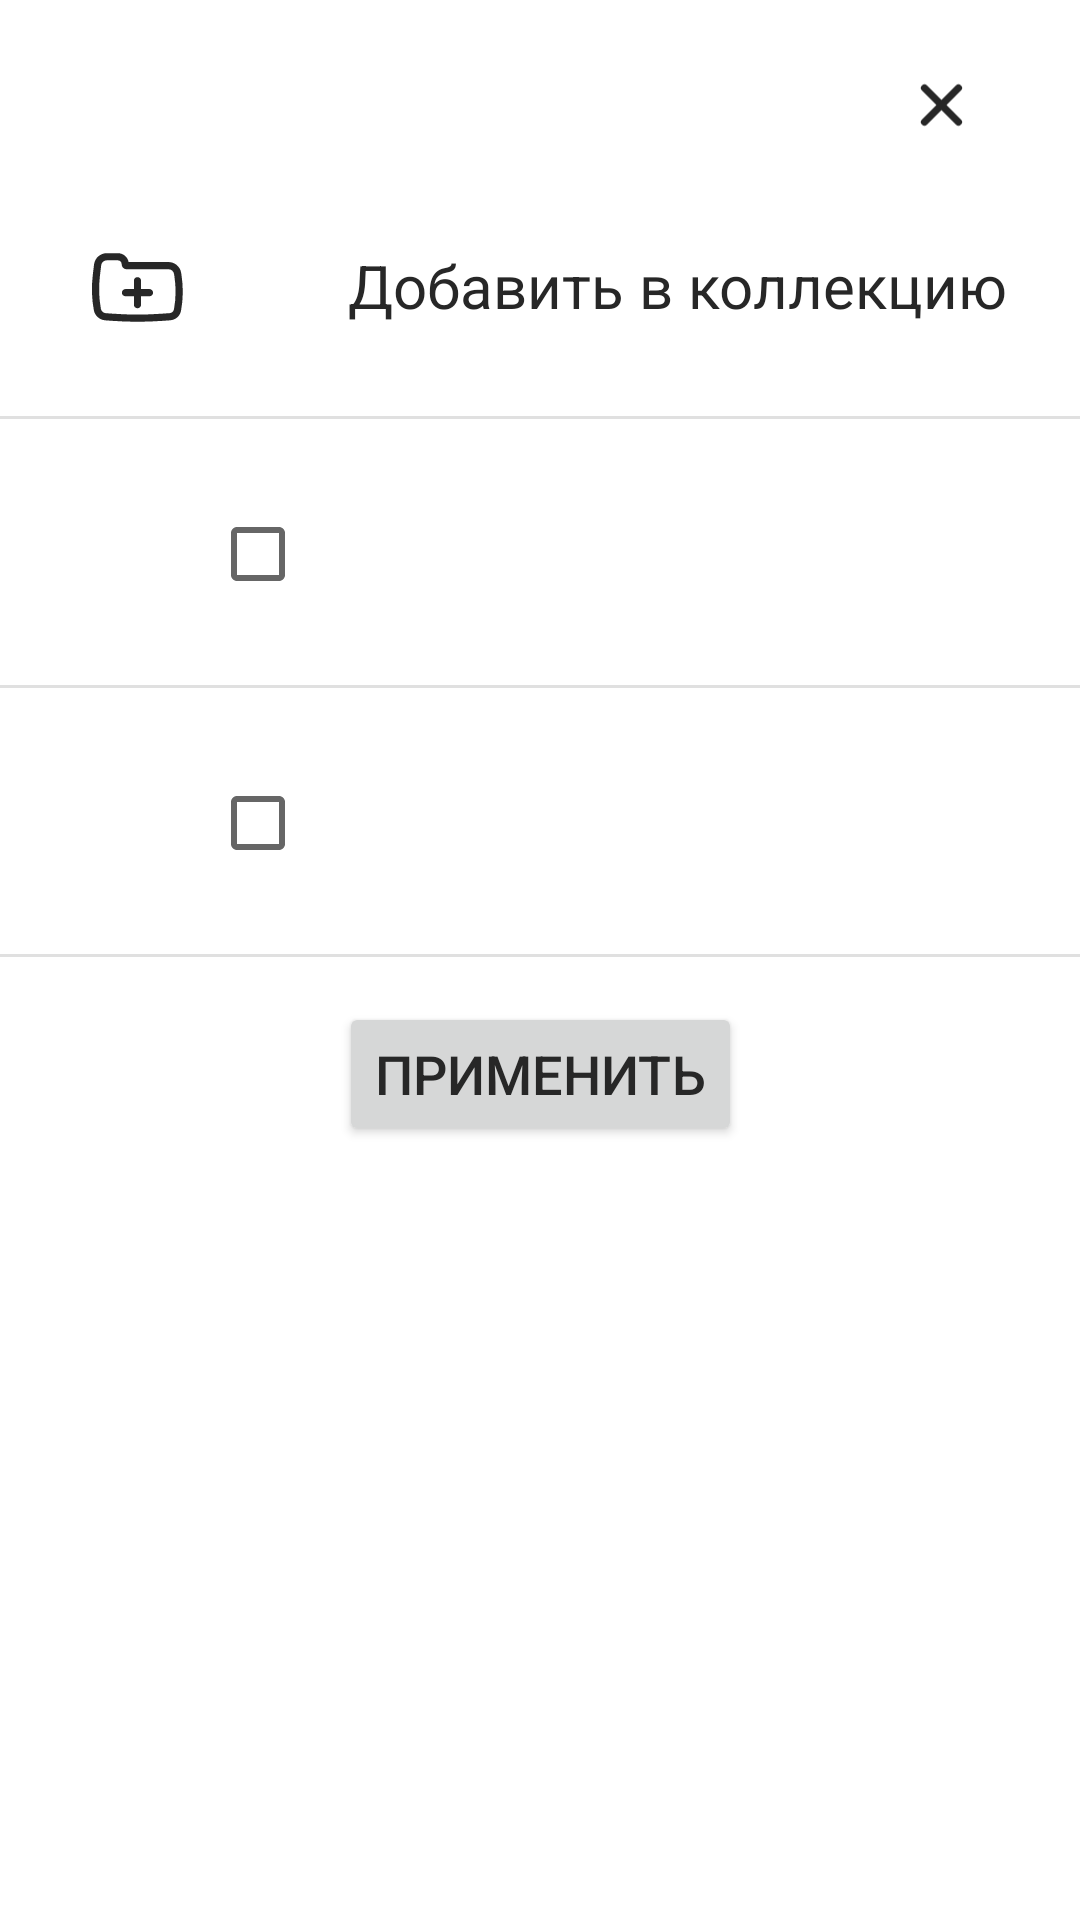

Icon bounding boxes for this 1080px×1920px phone screenshot, format bbox=[x1, y1, x2, y2]:
add collection: bbox=[92, 253, 183, 322]
close: bbox=[920, 84, 963, 127]
